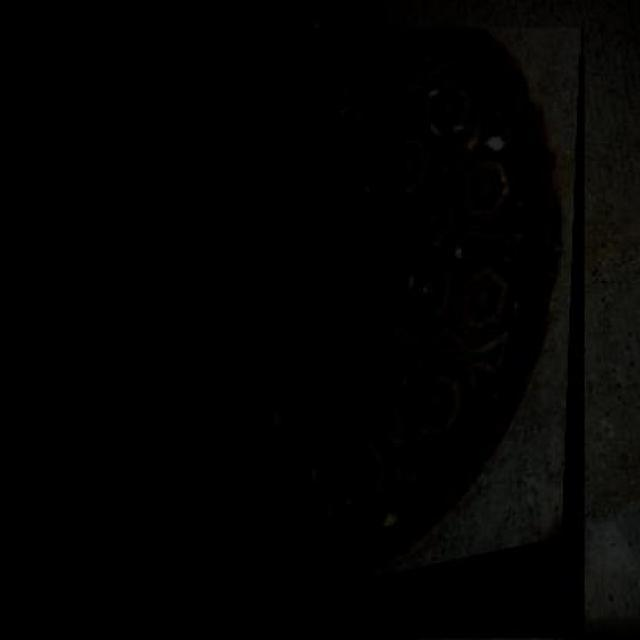Manhole: (110, 27, 586, 638)
